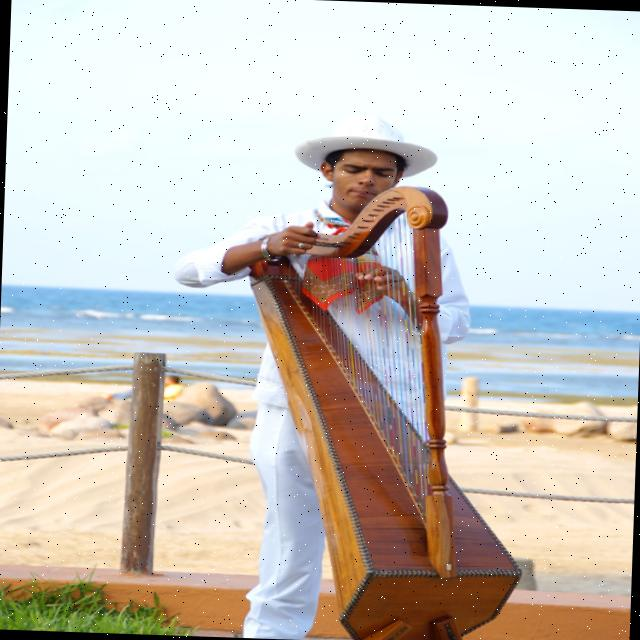harp: (226, 181, 541, 640)
